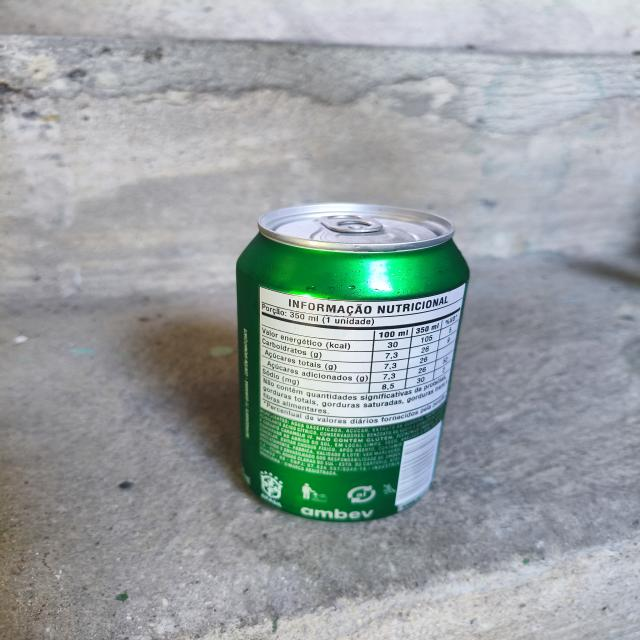Guarana: (225, 180, 496, 532)
